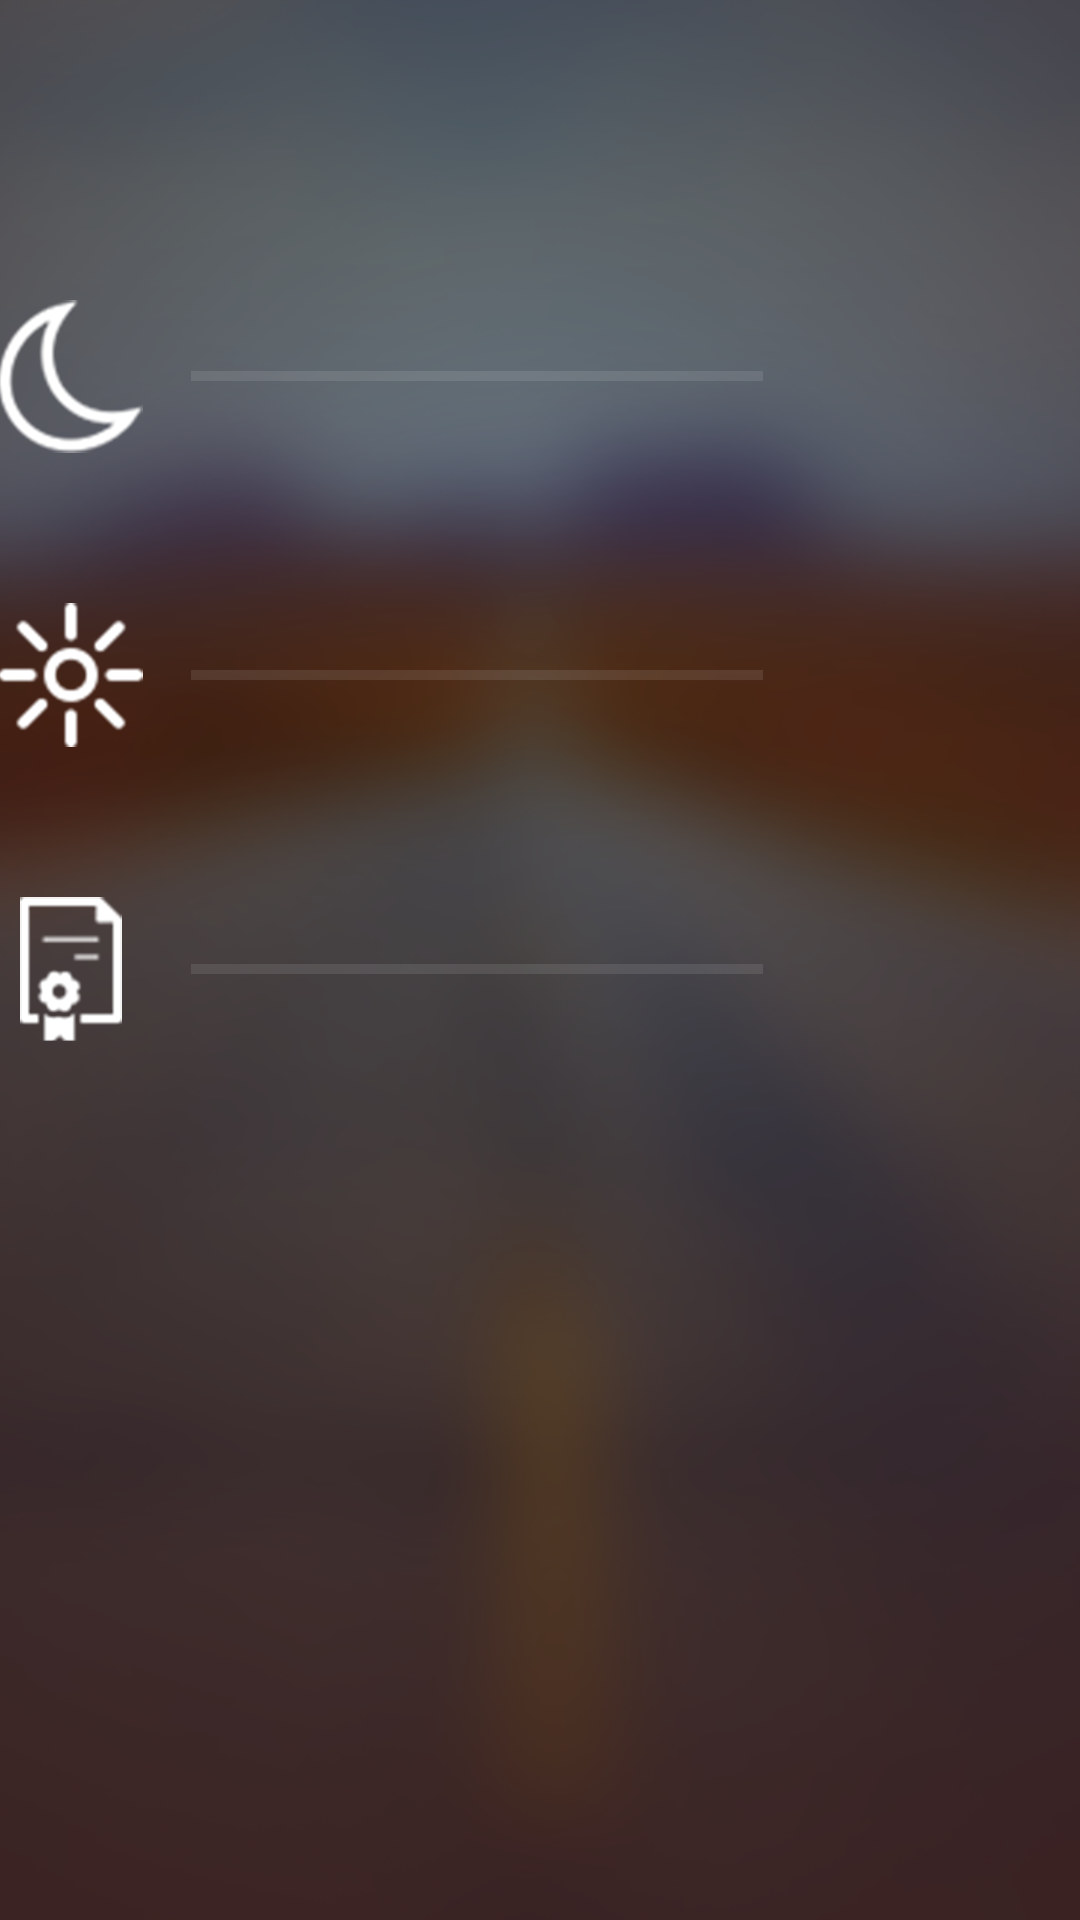

Where icons sit on this 1080 × 1920 app screen, as {"left": x1, "top": y1, "right": x2, "bottom": y2}:
certificate: {"left": 20, "top": 897, "right": 122, "bottom": 1041}
moon: {"left": 0, "top": 300, "right": 143, "bottom": 453}
sun: {"left": 0, "top": 619, "right": 143, "bottom": 747}
